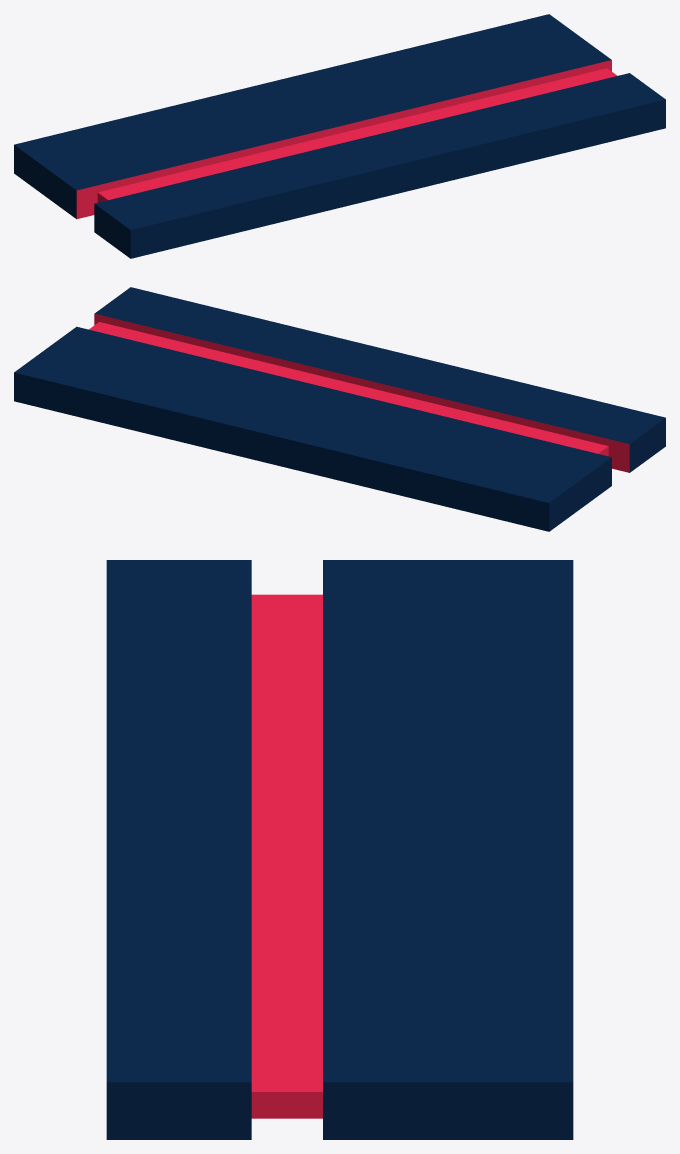
Rendered from Platform14.fbx.
The picture shows the model from 3 angles, top to bottom: view 1: azimuth 30°, elevation 25°; view 2: azimuth 150°, elevation 25°; view 3: azimuth 270°, elevation 25°; orthographic projection. The views are drawn at different scales.
Parts seen in each view (by area): view 1: Box076; view 2: Box076; view 3: Box076.
Boxes of the visible parts, x1,y1,x2,y2 form: Box076: (14, 14, 665, 258); Box076: (14, 287, 665, 531); Box076: (106, 560, 573, 1139).
Size of the model in its own units: 346 by 17.78 by 131.
